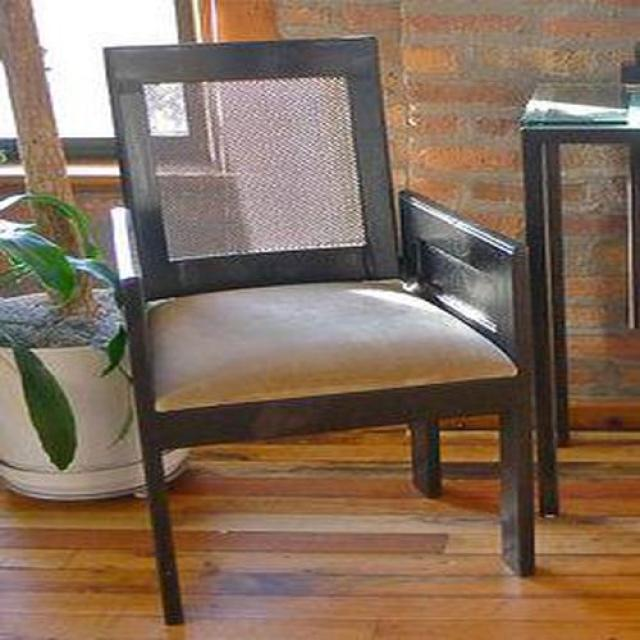chair: (102, 36, 535, 611)
